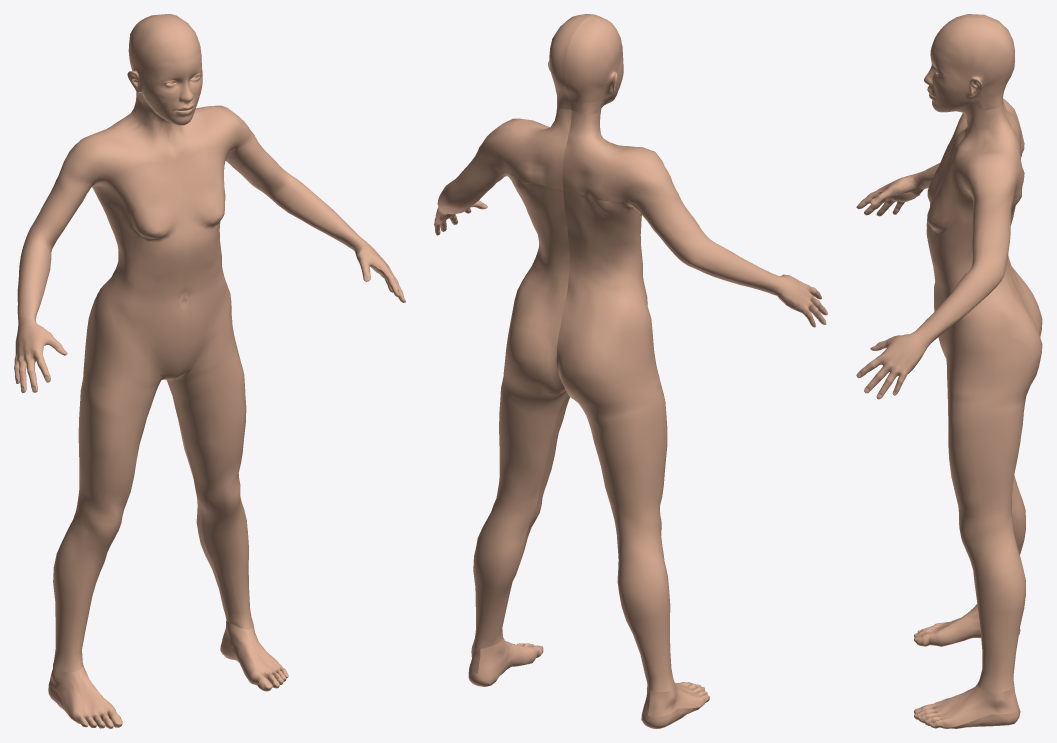
Rendered from parametric-body.glb.
3 renders of one model, left to right at view 1: azimuth 30°, elevation 25°; view 2: azimuth 150°, elevation 25°; view 3: azimuth 270°, elevation 25°, orthographic.
Parts seen in each view (by area): view 1: Body; view 2: Body; view 3: Body.
Boxes of the visible parts, x1=… form: Body: x1=14, y1=14, x2=405, y2=728; Body: x1=434, y1=14, x2=827, y2=728; Body: x1=856, y1=14, x2=1042, y2=728.
Bounding box in the file's own units: 0.9925 × 1.67 × 0.423.
